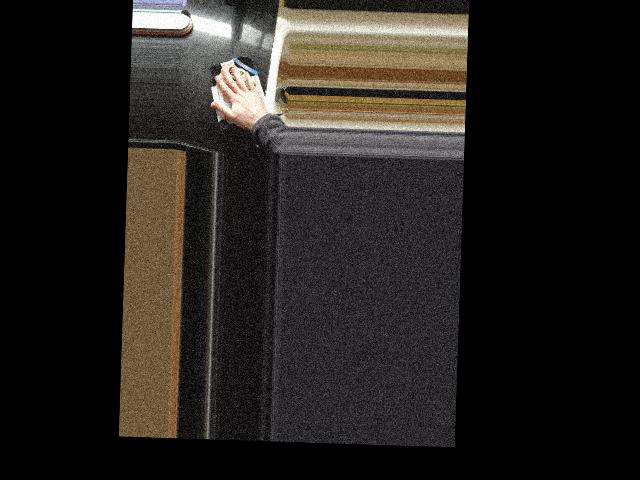cheese: (204, 53, 273, 132)
